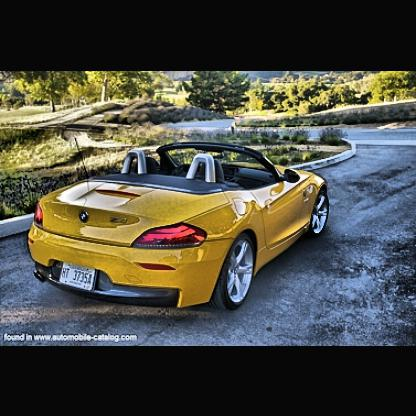BMW Z4 Convertible 2012: (31, 141, 337, 314)
